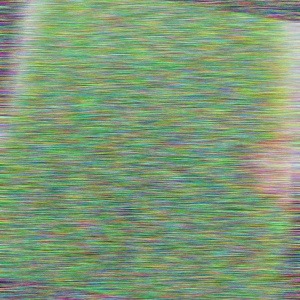Brown_Spot: (223, 114, 299, 223)
